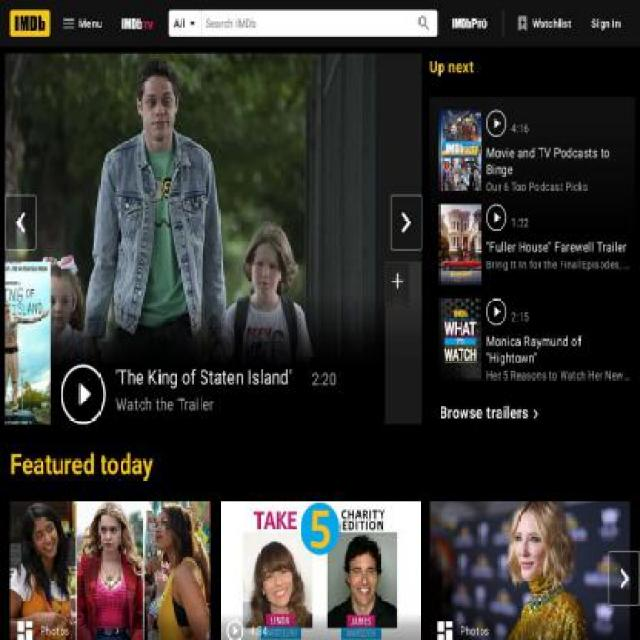button: (4, 53, 422, 425), (421, 52, 640, 425), (9, 501, 211, 639), (219, 501, 421, 639), (429, 501, 631, 639), (480, 96, 635, 201), (480, 285, 635, 389), (480, 2, 635, 90), (480, 379, 635, 467), (480, 191, 635, 278), (508, 7, 582, 38), (112, 7, 165, 38), (582, 7, 630, 38), (15, 262, 40, 308), (432, 262, 457, 308), (10, 9, 50, 37), (412, 12, 434, 34), (421, 195, 422, 196)
field: (200, 9, 403, 37)
